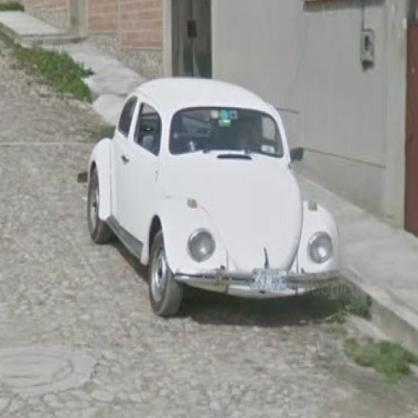car: (92, 78, 344, 322)
